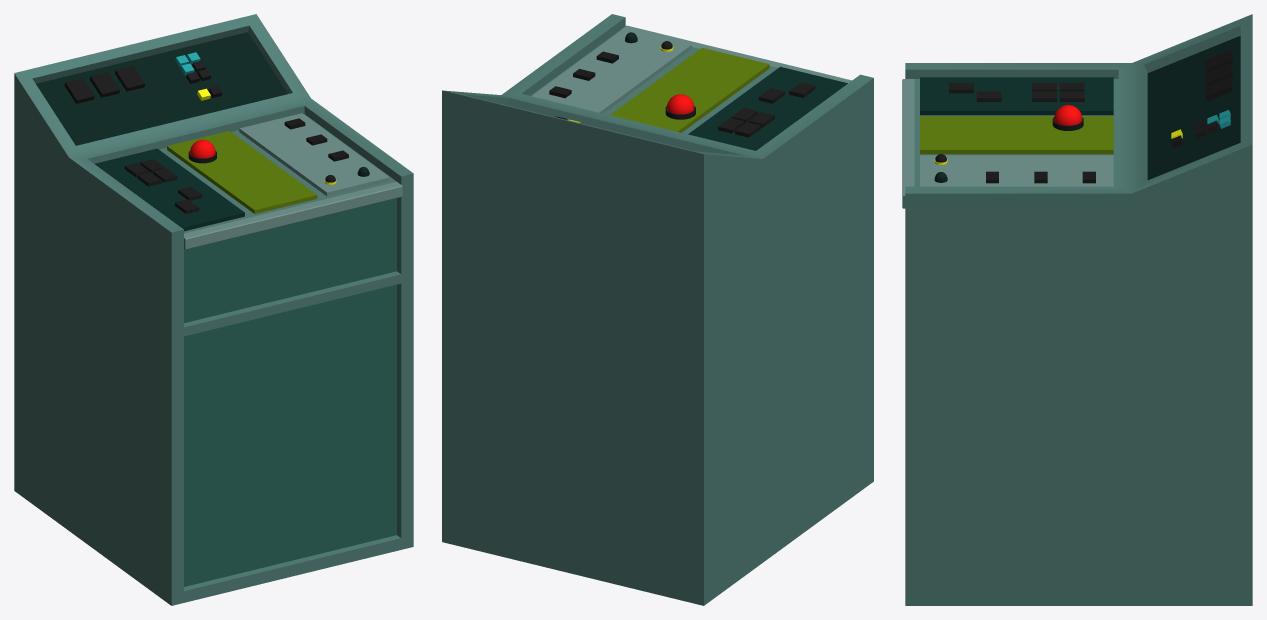
File: controll_panel.FBX
3 renders of one model, left to right at view 1: azimuth 30°, elevation 25°; view 2: azimuth 150°, elevation 25°; view 3: azimuth 270°, elevation 25°, orthographic. The views are drawn at different scales.
Visible parts, largest first — view 1: Box001; view 2: Box001; view 3: Box001, Sphere003.
Boxes of the visible parts, box(x1,y1,x2,y2) form: Box001: box(14, 14, 413, 605); Box001: box(442, 14, 873, 605); Box001: box(902, 14, 1252, 605); Sphere003: box(1054, 105, 1082, 125).
Bounding box in the file's own units: 32.06 × 52.85 × 36.39.
